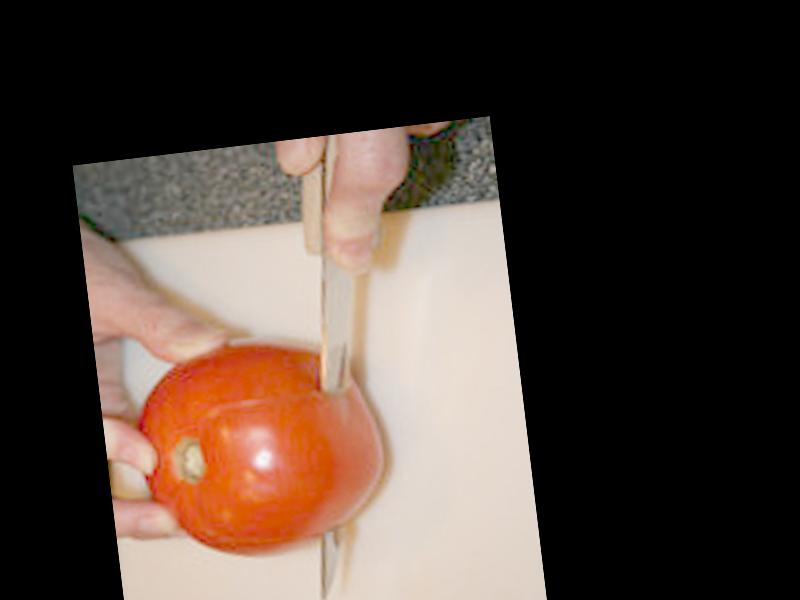Tomato: (127, 329, 393, 571)
